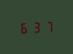seven: (43, 19, 54, 33)
six: (18, 20, 29, 34)
three: (31, 20, 42, 33)
